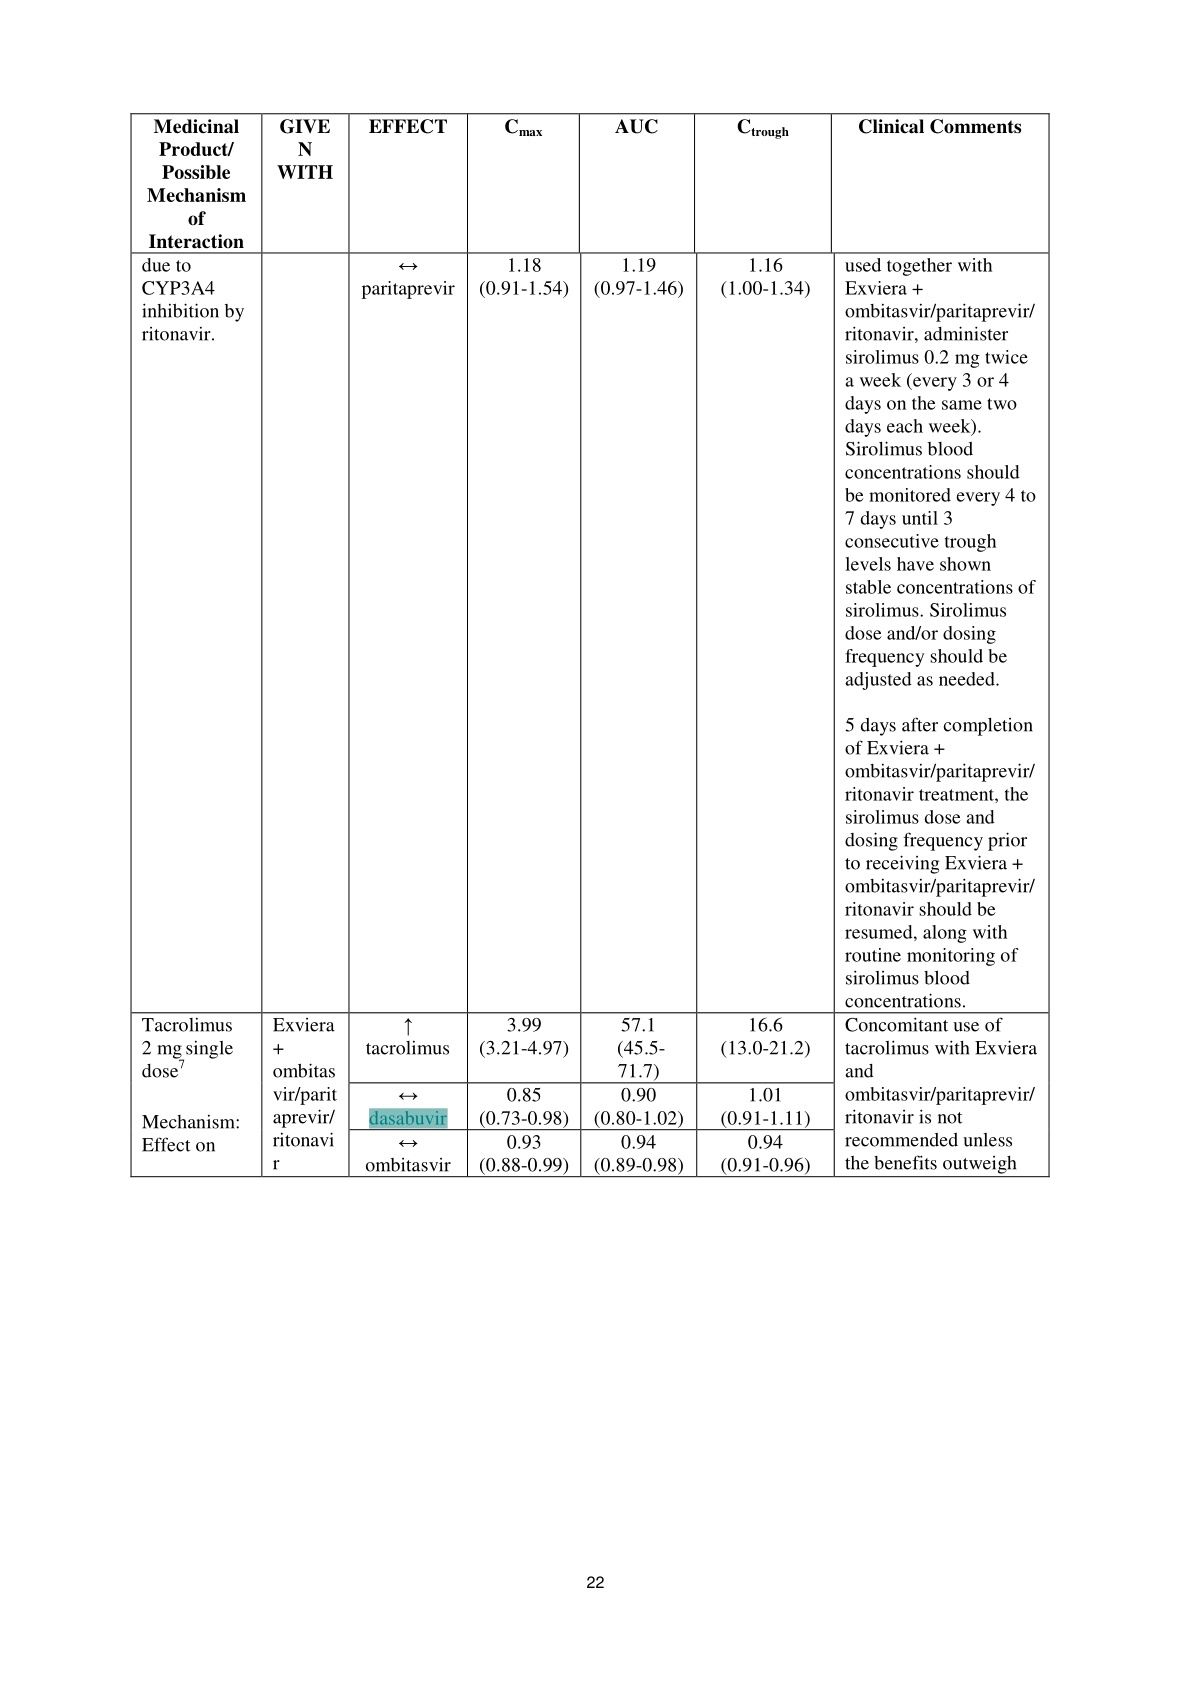merged_cells: (129, 113, 1051, 1178)
